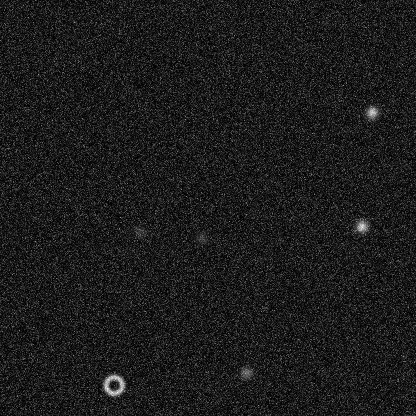Ring: (101, 372, 125, 396)
Spot: (131, 223, 147, 239), (238, 364, 254, 380), (193, 229, 209, 245), (363, 104, 379, 120), (353, 218, 369, 234)
